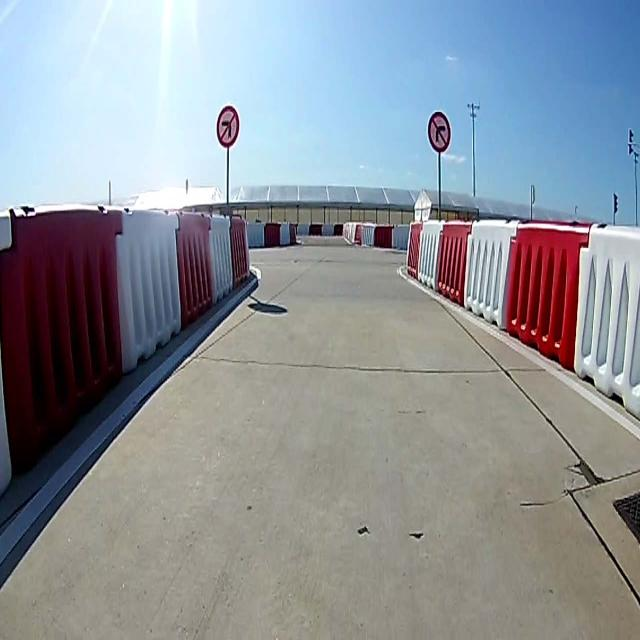sagadonulmez: (427, 114, 453, 154)
soladonulmez: (216, 108, 238, 146)
